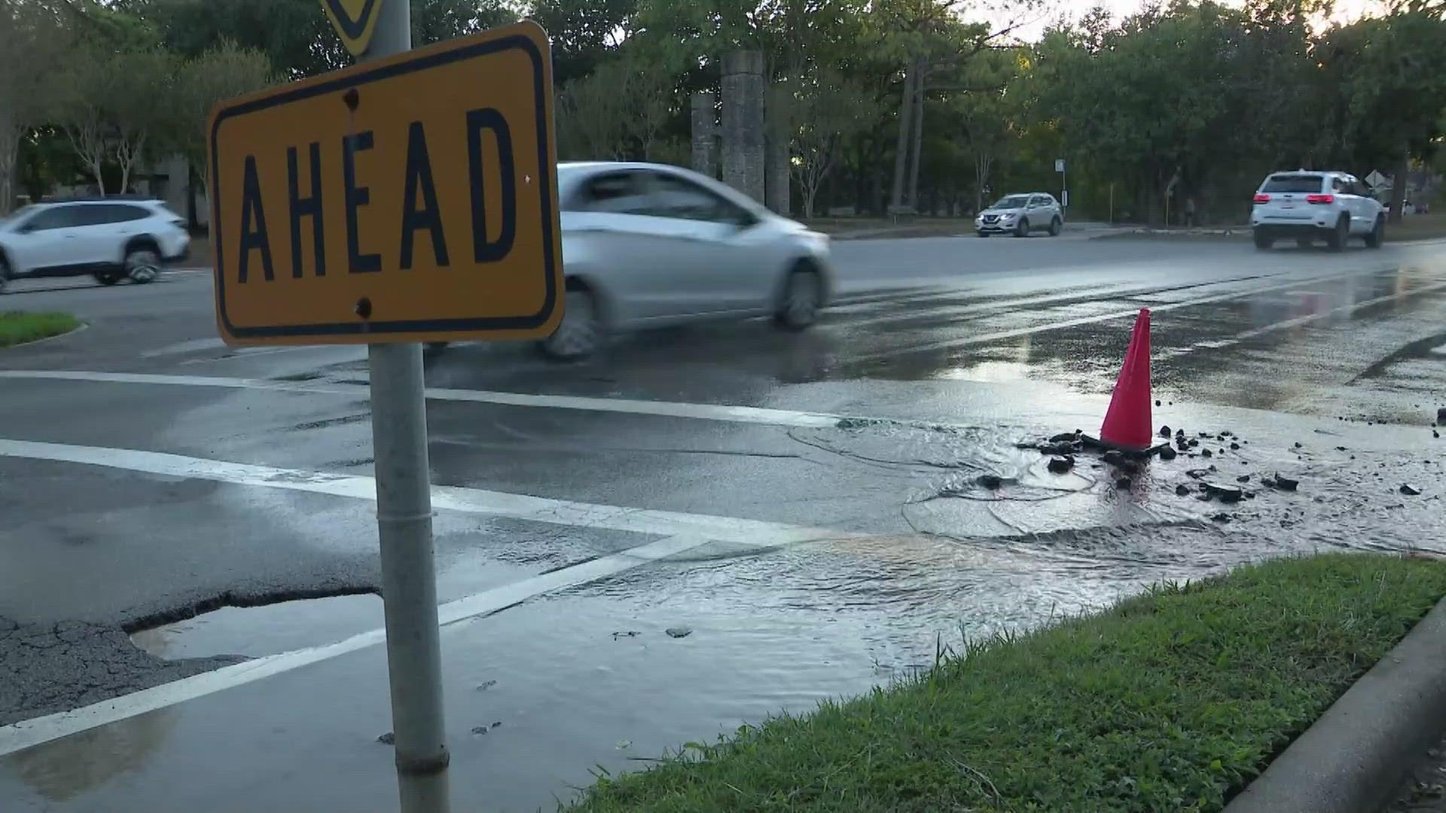water_leak: (908, 425, 1443, 570)
